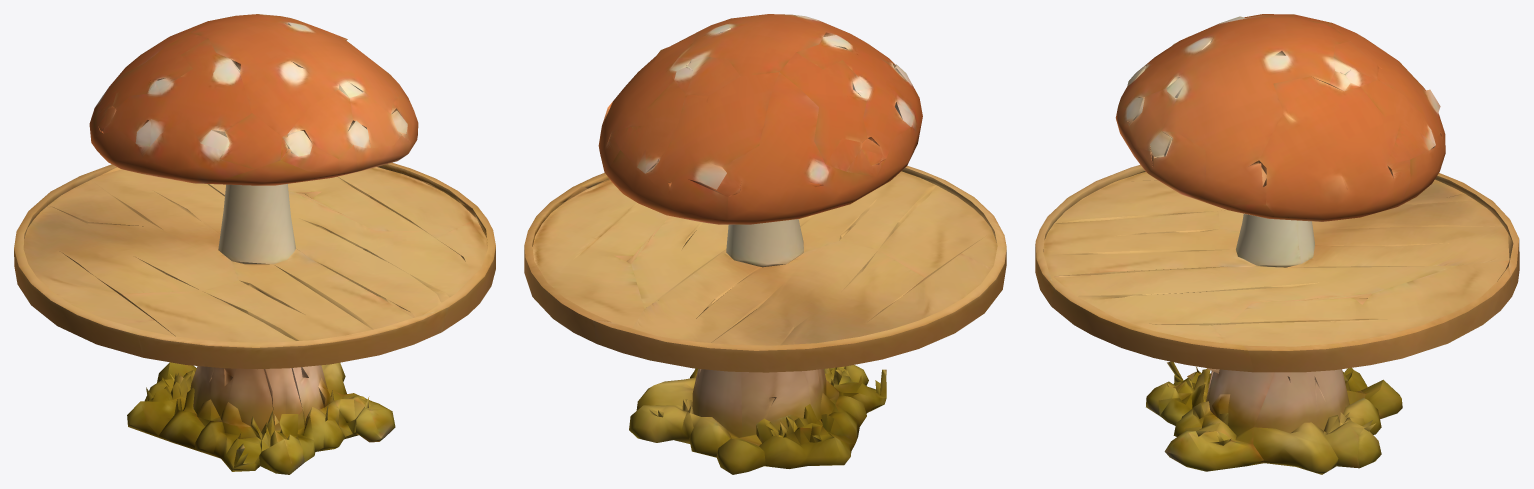
The model's file is m2MushroomCapTop.glb.
3 renders of one model, left to right at view 1: azimuth 30°, elevation 25°; view 2: azimuth 150°, elevation 25°; view 3: azimuth 270°, elevation 25°, orthographic.
Visible parts, largest first — view 1: model; view 2: model; view 3: model.
Boxes of the visible parts, <box> form: model: <box>14,14,495,474</box>; model: <box>524,14,1006,474</box>; model: <box>1035,14,1519,474</box>.
Bounding box in the file's own units: 1.9 × 1.7 × 1.9.
Materials: 1 (1 with a texture image).
